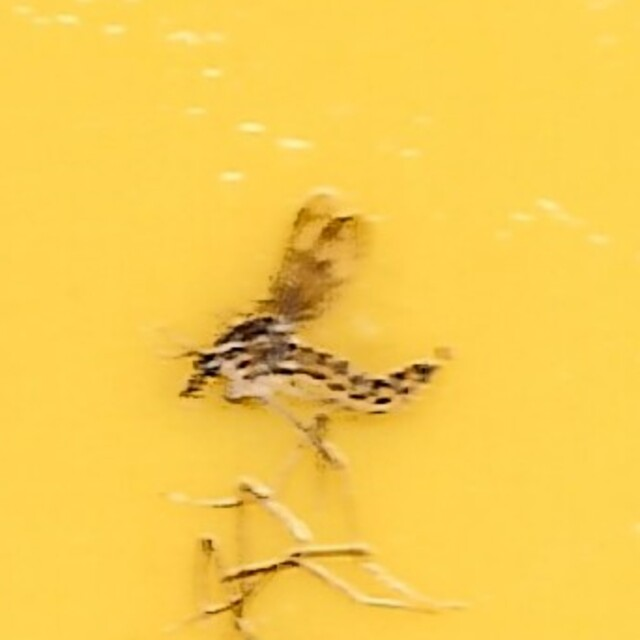Nematocera: (187, 189, 453, 451)
